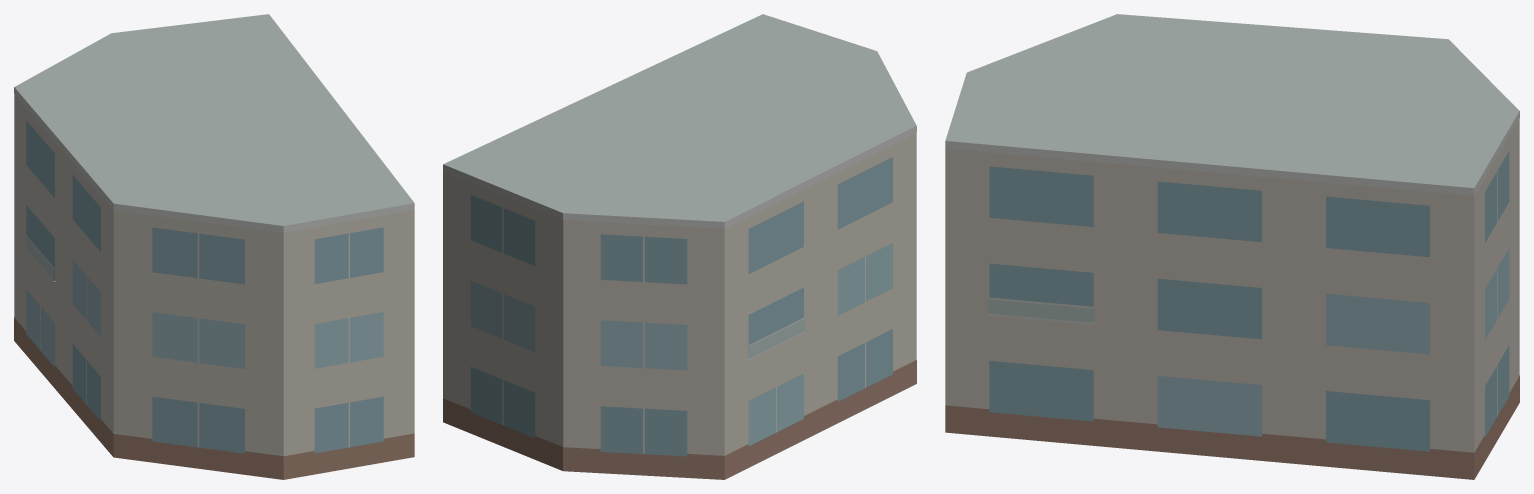
Rendered from survey-upis-32870302.glb.
3 renders of one model, left to right at view 1: azimuth 30°, elevation 25°; view 2: azimuth 150°, elevation 25°; view 3: azimuth 270°, elevation 25°, orthographic. The views are drawn at different scales.
Parts seen in each view (by area): view 1: survey-upis-32870302.tmp; view 2: survey-upis-32870302.tmp; view 3: survey-upis-32870302.tmp.
Boxes of the visible parts, <box> form: survey-upis-32870302.tmp: <box>14,14,414,479</box>; survey-upis-32870302.tmp: <box>443,14,916,479</box>; survey-upis-32870302.tmp: <box>945,14,1519,479</box>.
Size of the model in its own units: 11.73 by 9.15 by 16.34.
